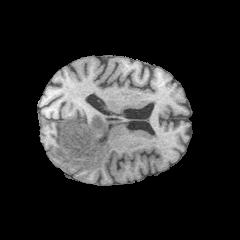glioma: (53, 115, 113, 171)
